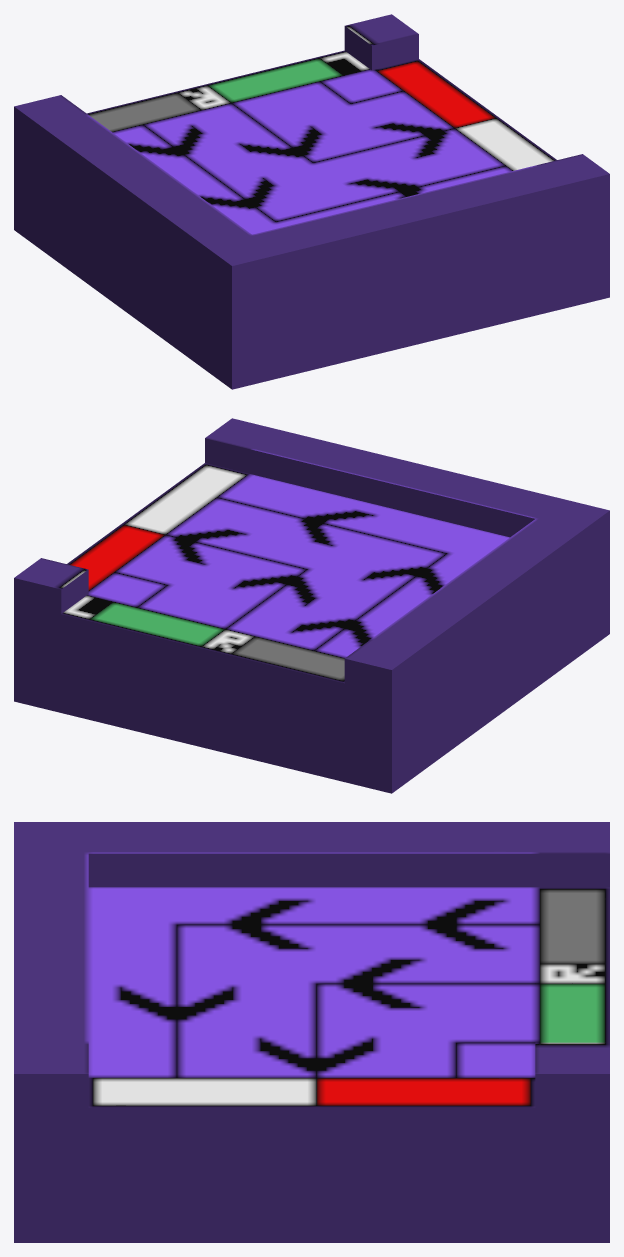
The model's file is left.obj.
3 renders of one model, top to bottom at view 1: azimuth 30°, elevation 25°; view 2: azimuth 150°, elevation 25°; view 3: azimuth 270°, elevation 25°, orthographic. The views are drawn at different scales.
Visible parts, largest first — view 1: Left; view 2: Left; view 3: Left.
Part boxes in pixels (left/top/right/bottom): Left: left=14, top=14, right=609, bottom=389; Left: left=14, top=418, right=609, bottom=793; Left: left=14, top=822, right=609, bottom=1242.
Size of the model in its own units: 4 by 1.25 by 4.
1 material, 1 textured.
